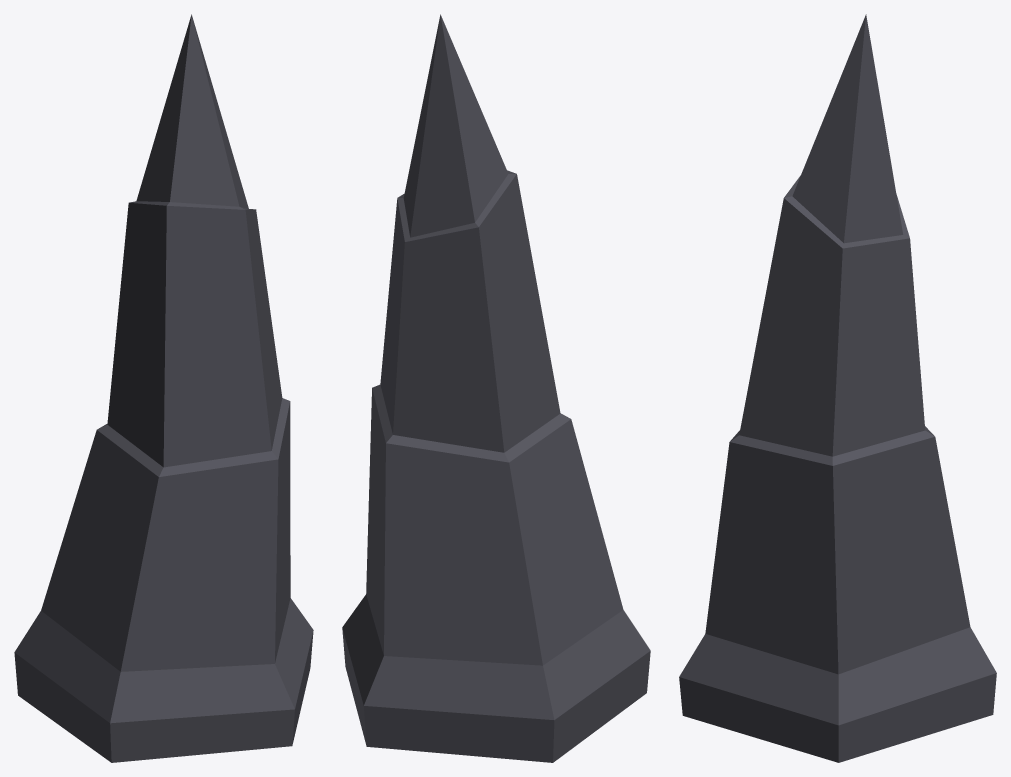
Rendered from Stalagmite_02.glb.
3 views of the same model, side by side, from view 1: azimuth 30°, elevation 25°; view 2: azimuth 150°, elevation 25°; view 3: azimuth 270°, elevation 25° (orthographic). The views are drawn at different scales.
Visible parts, largest first — view 1: Stalagmite_02; view 2: Stalagmite_02; view 3: Stalagmite_02.
Boxes of the visible parts, x1,y1,x2,y2 form: Stalagmite_02: (14,14,313,762); Stalagmite_02: (342,14,650,762); Stalagmite_02: (679,14,996,762).
Size of what is drawn, in the model's own units: 0.6261 by 1.59 by 0.6571.
1 material, 1 textured.
